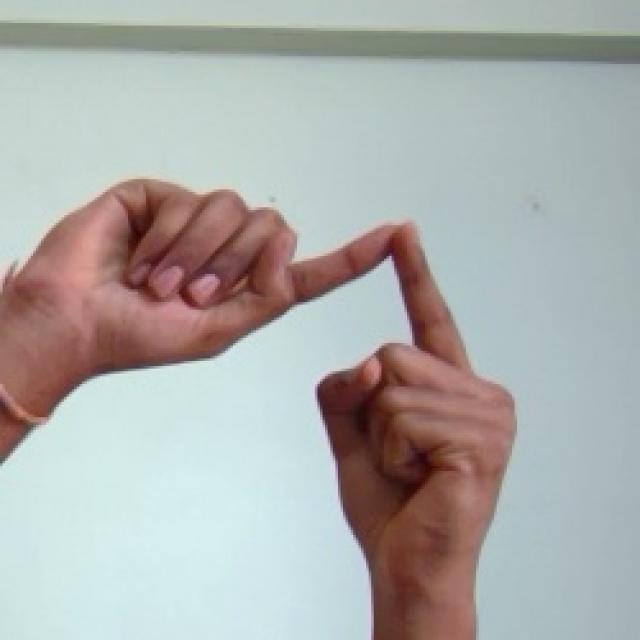Alphabet-E: (1, 179, 517, 639)
